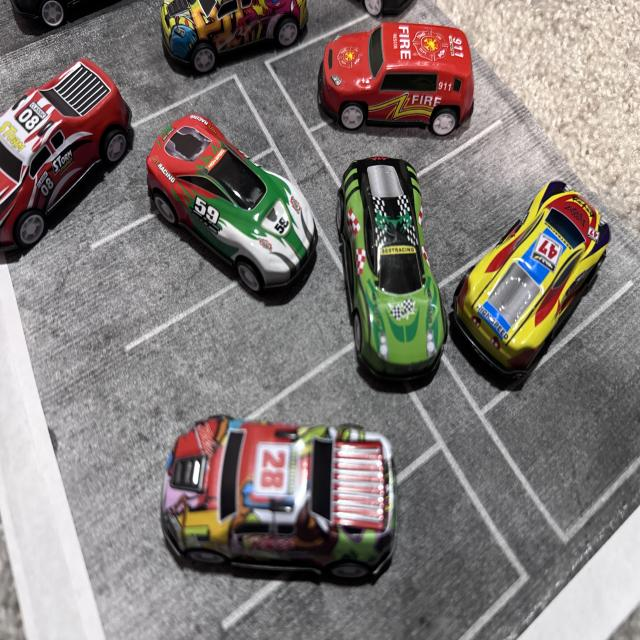car: (450, 154, 613, 410), (156, 406, 354, 585), (147, 113, 316, 292), (1, 56, 135, 250), (342, 159, 447, 388), (308, 4, 457, 136), (157, 0, 310, 76)
